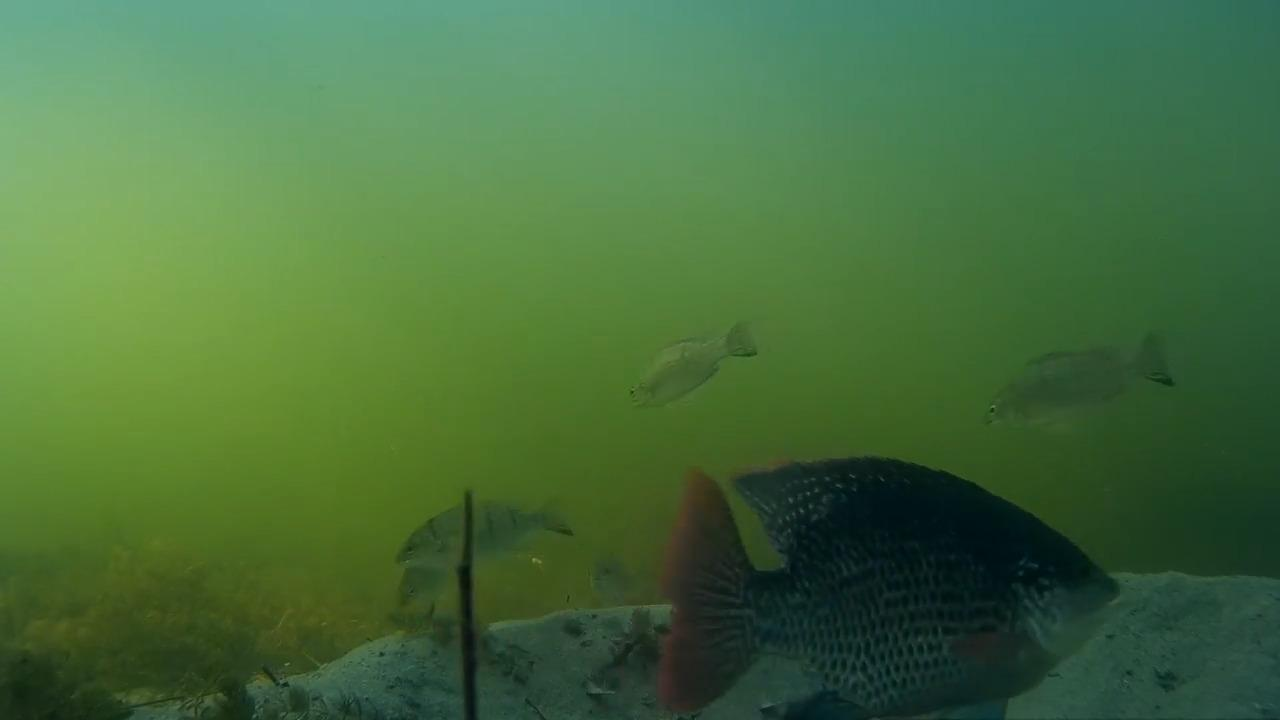Tilapia: (644, 466, 1137, 720), (970, 346, 1185, 434), (394, 492, 583, 568), (618, 326, 773, 414)
